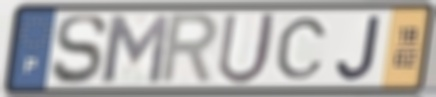C: (273, 15, 330, 82)
J: (334, 13, 384, 83)
M: (100, 12, 173, 87)
R: (155, 10, 222, 88)
S: (49, 12, 110, 87)
U: (214, 9, 280, 87)
